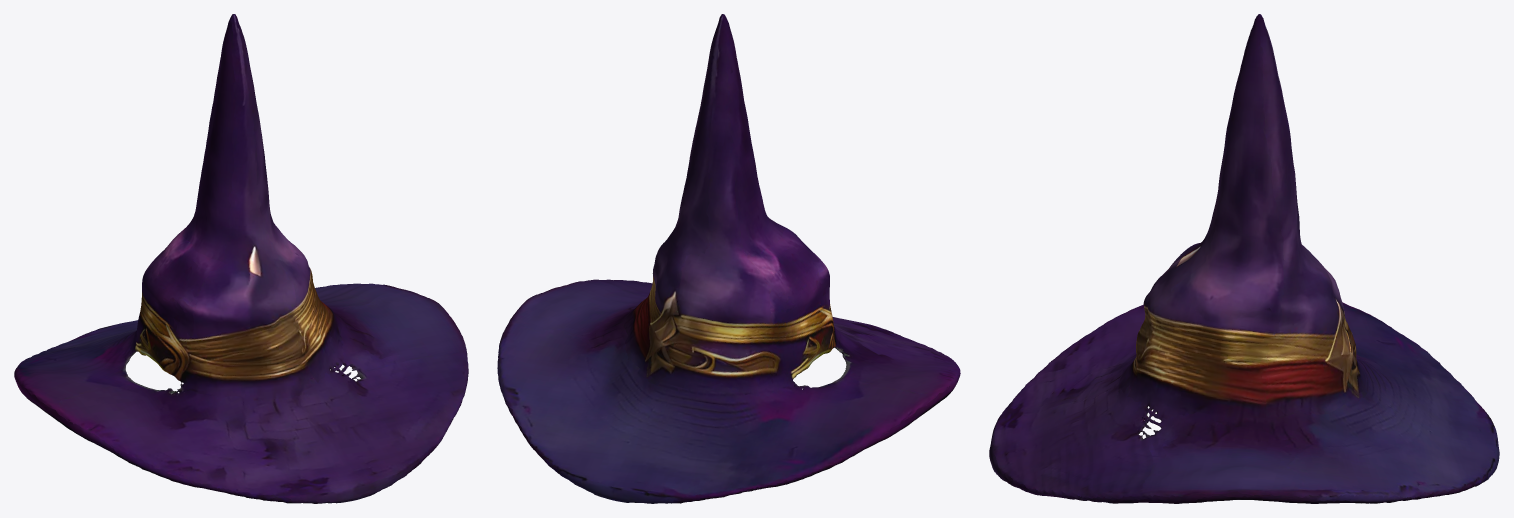
Rendered from hat-transformed.glb.
The picture shows the model from 3 angles, left to right: view 1: azimuth 30°, elevation 25°; view 2: azimuth 150°, elevation 25°; view 3: azimuth 270°, elevation 25°; orthographic projection. The views are drawn at different scales.
Visible parts, largest first — view 1: Object_4; view 2: Object_4; view 3: Object_4.
Boxes of the visible parts, x1,y1,x2,y2 form: Object_4: [14, 14, 468, 503]; Object_4: [497, 14, 960, 503]; Object_4: [989, 14, 1499, 503].
Bounding box in the file's own units: 0.9988 × 0.9596 × 1.
1 material, 1 textured.
